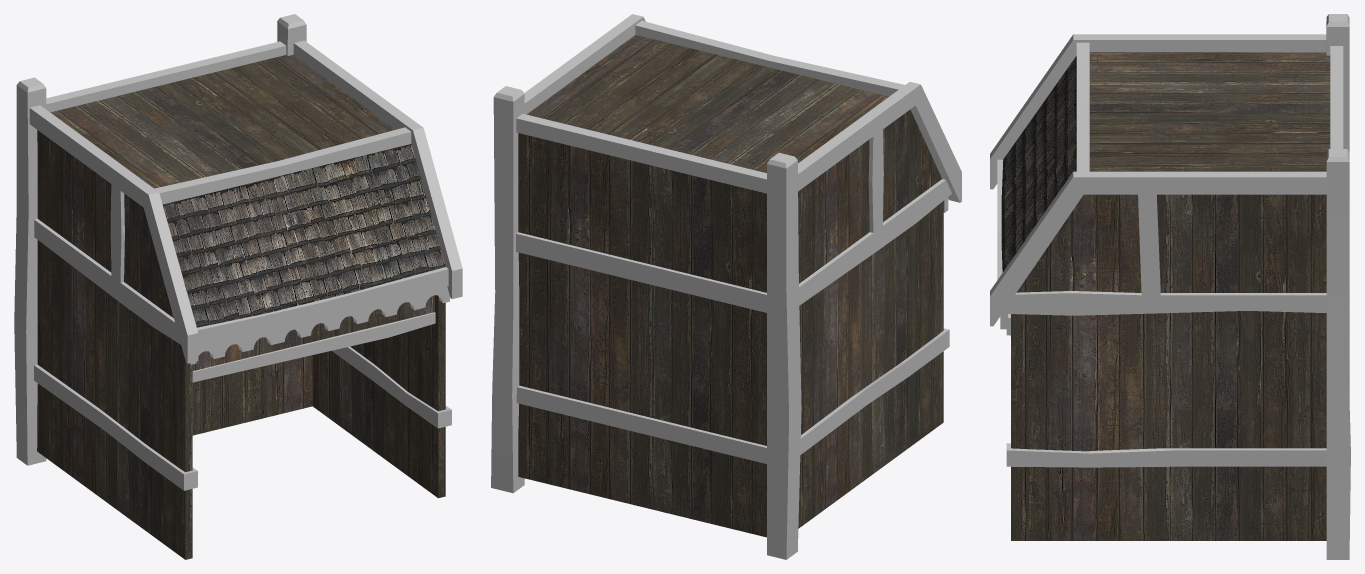
Rendered from Shop.fbx.
3 renders of one model, left to right at view 1: azimuth 30°, elevation 25°; view 2: azimuth 150°, elevation 25°; view 3: azimuth 270°, elevation 25°, orthographic. The views are drawn at different scales.
Parts seen in each view (by area): view 1: LV_GrassLand_MartaCity_Shop01_SM_KMS; view 2: LV_GrassLand_MartaCity_Shop01_SM_KMS; view 3: LV_GrassLand_MartaCity_Shop01_SM_KMS.
Boxes of the visible parts, <box> form: LV_GrassLand_MartaCity_Shop01_SM_KMS: <box>14,14,462,559</box>; LV_GrassLand_MartaCity_Shop01_SM_KMS: <box>491,14,961,559</box>; LV_GrassLand_MartaCity_Shop01_SM_KMS: <box>990,14,1350,559</box>.
Bounding box in the file's own units: 2.07 × 2.62 × 2.14.
